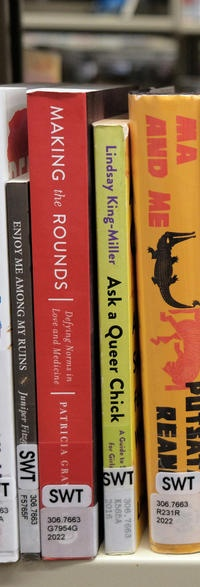call_number: (41, 504, 95, 558), (151, 494, 200, 543), (103, 498, 136, 552), (17, 489, 40, 552)
